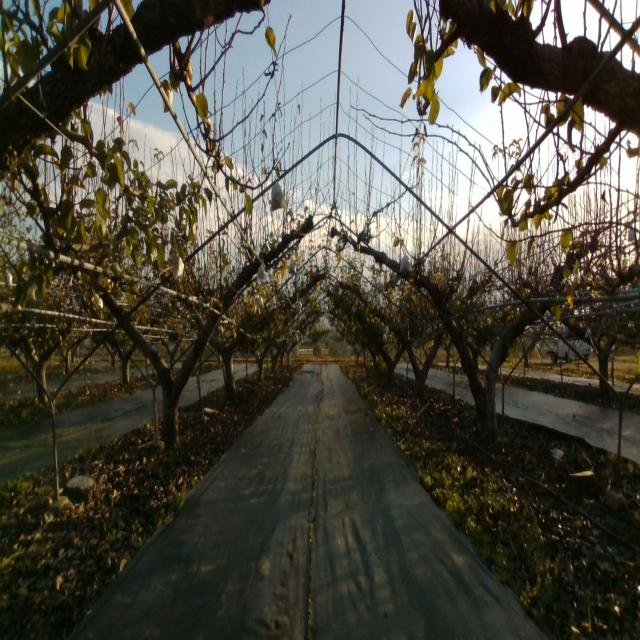pearbags: (271, 178, 287, 211), (173, 255, 184, 284), (399, 253, 413, 274)
